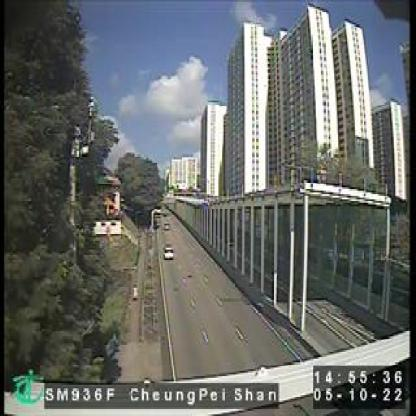Car: (162, 244, 173, 258)
